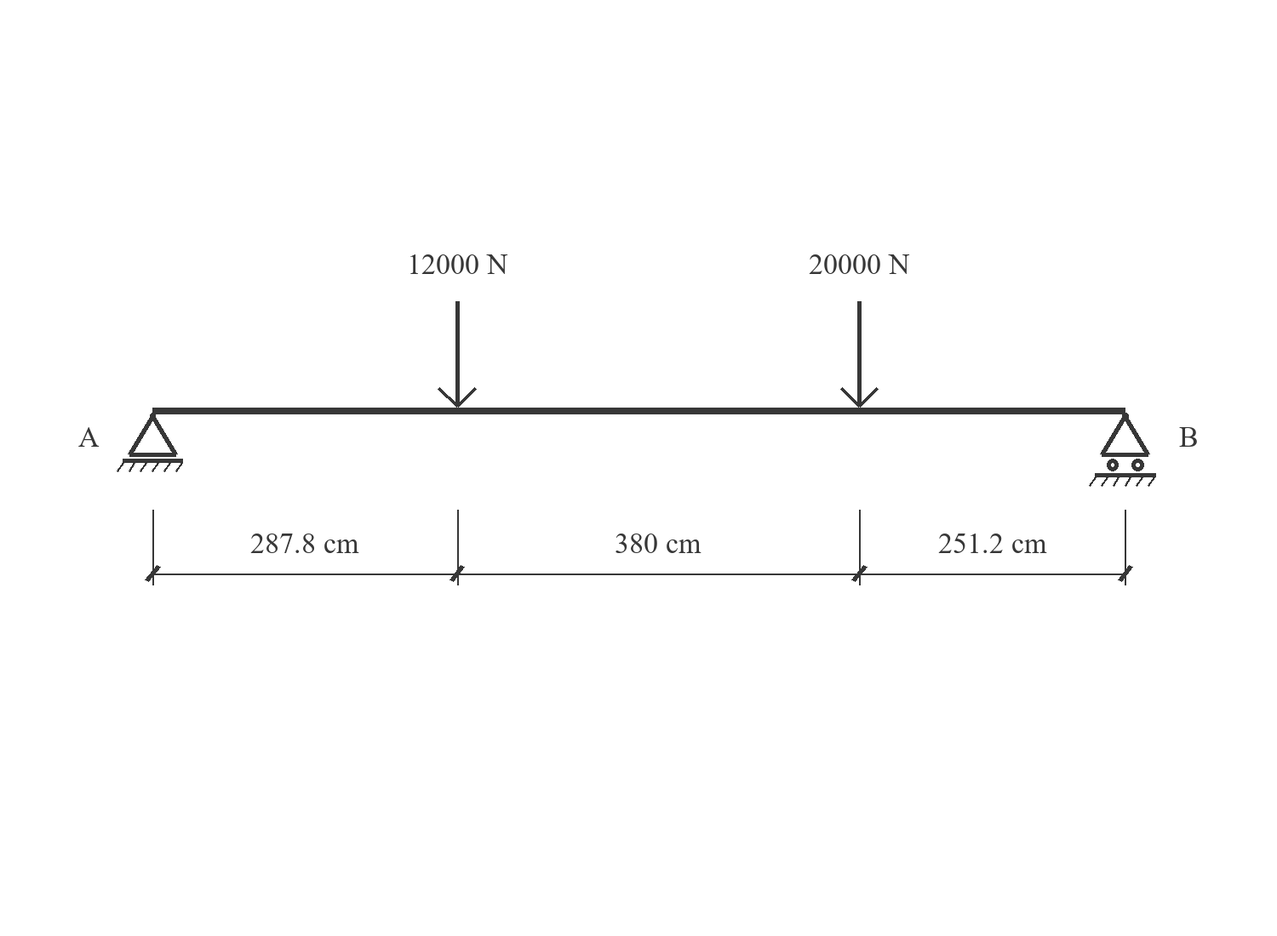pin_support: (117, 413, 183, 472)
point_load: (438, 301, 477, 408), (840, 301, 879, 408)
roller_support: (1089, 413, 1156, 487)
